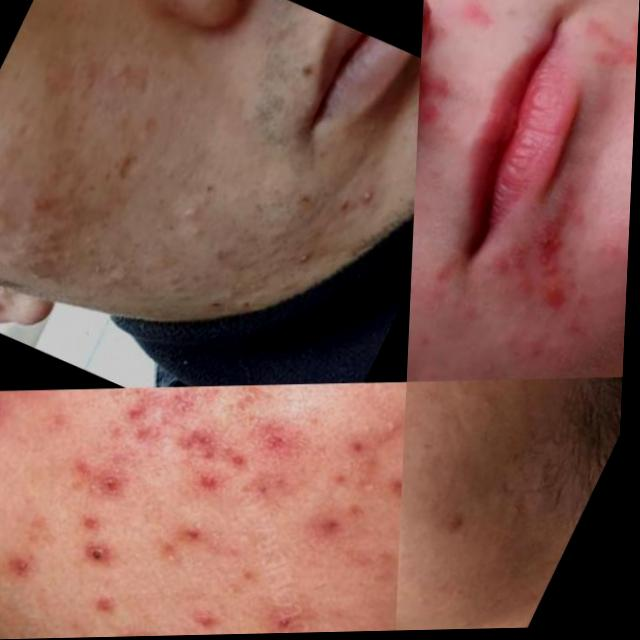8: (106, 386, 317, 523), (529, 276, 585, 349), (255, 590, 327, 635), (82, 455, 142, 508), (76, 535, 125, 579), (110, 619, 173, 638)
9: (351, 167, 409, 222)
blackheads: (521, 216, 589, 289), (101, 133, 169, 199)
